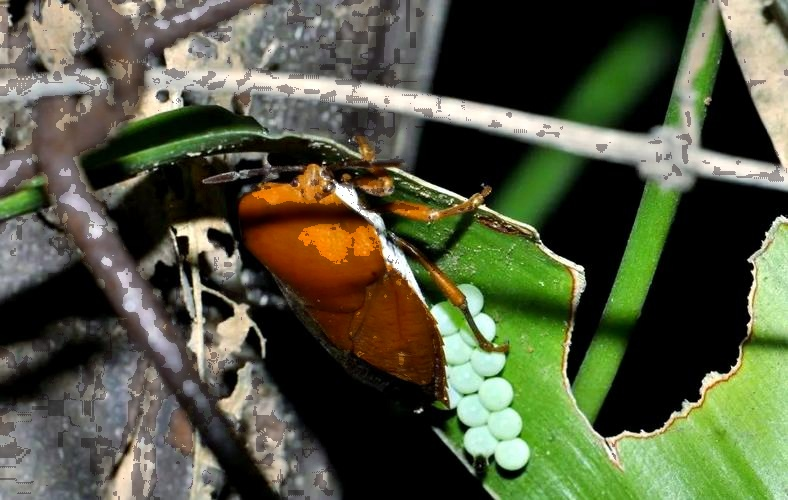Stink_Bug: (242, 151, 538, 463)
